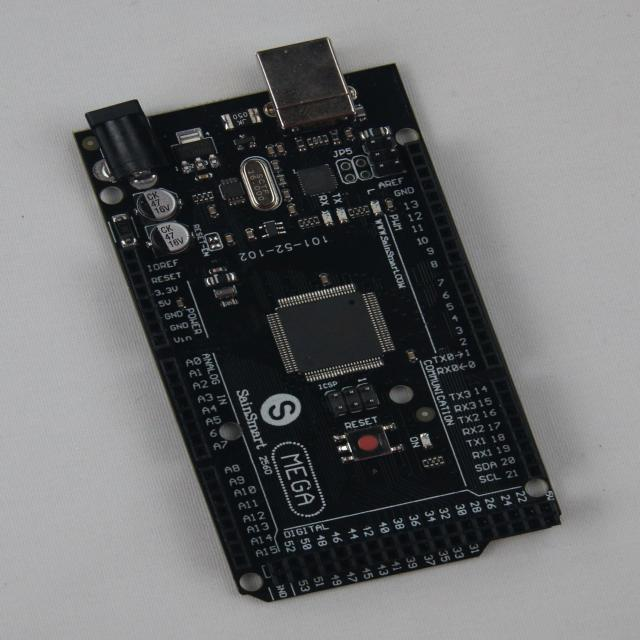Arduino Mega 2560 -Black-: (77, 39, 561, 602)
